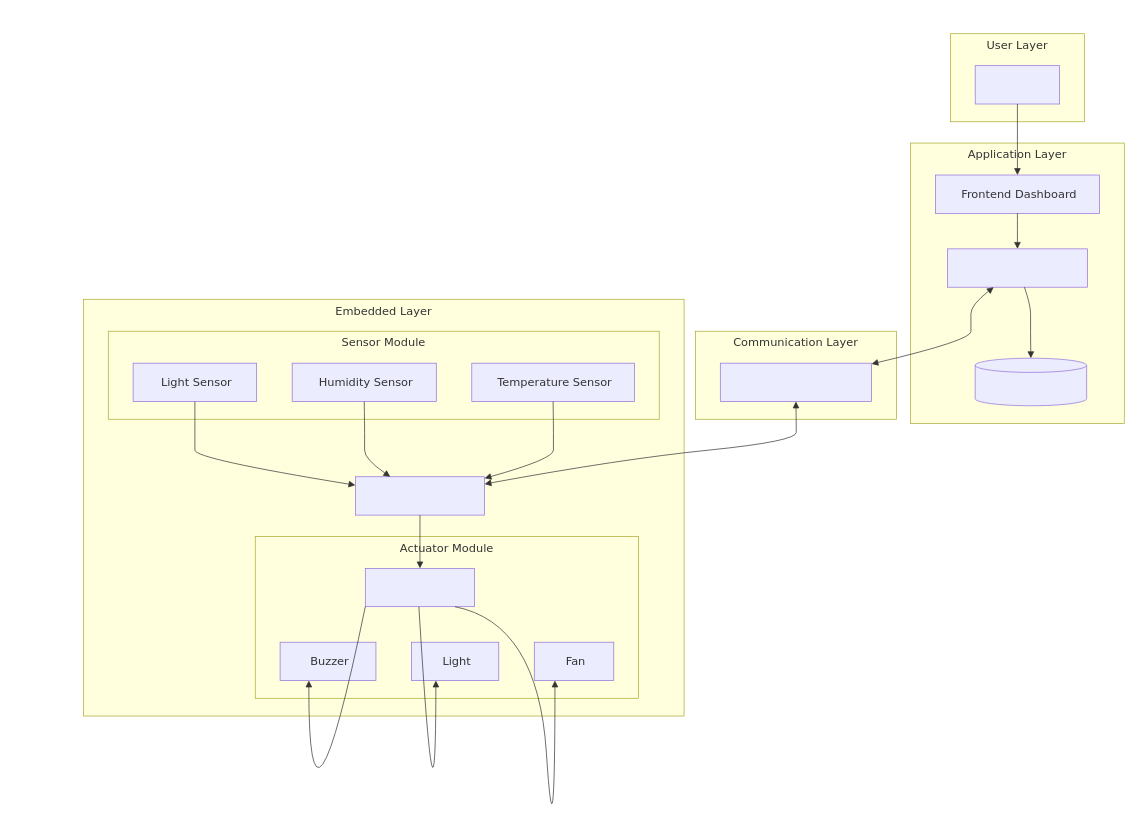
Image size: 1137x817. Some labels were removed from this diagram. Here are the shapes that lost their labels. From the top down, the centre of each, then its label:
At [1017,84]: "User".
At [1017,267]: "Backend Server".
At [796,382]: "ESP8266 Gateway".
At [1030,381]: "MySQL Database".
At [420,495]: "STM32 Controller".
At [420,587]: "Relay Module".
